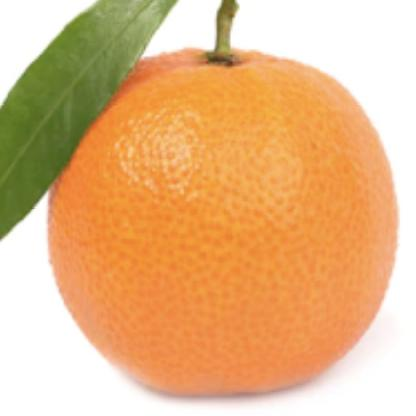fresh: (50, 45, 398, 397)
